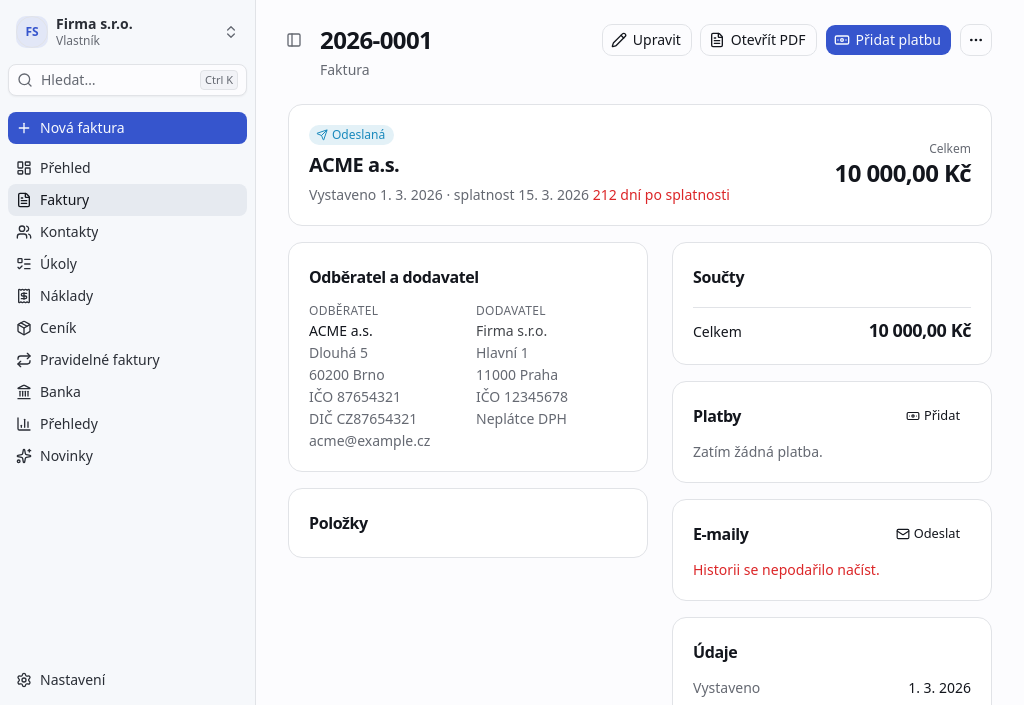
Test case: zálohy — platba › platba musí mít znaménko zbývající částky
expect the heading "2026-0001" is shown: met, box [320, 23, 432, 56]
Click the button "Přidat platbu". click: click(888, 40)
box: [825, 24, 952, 56]
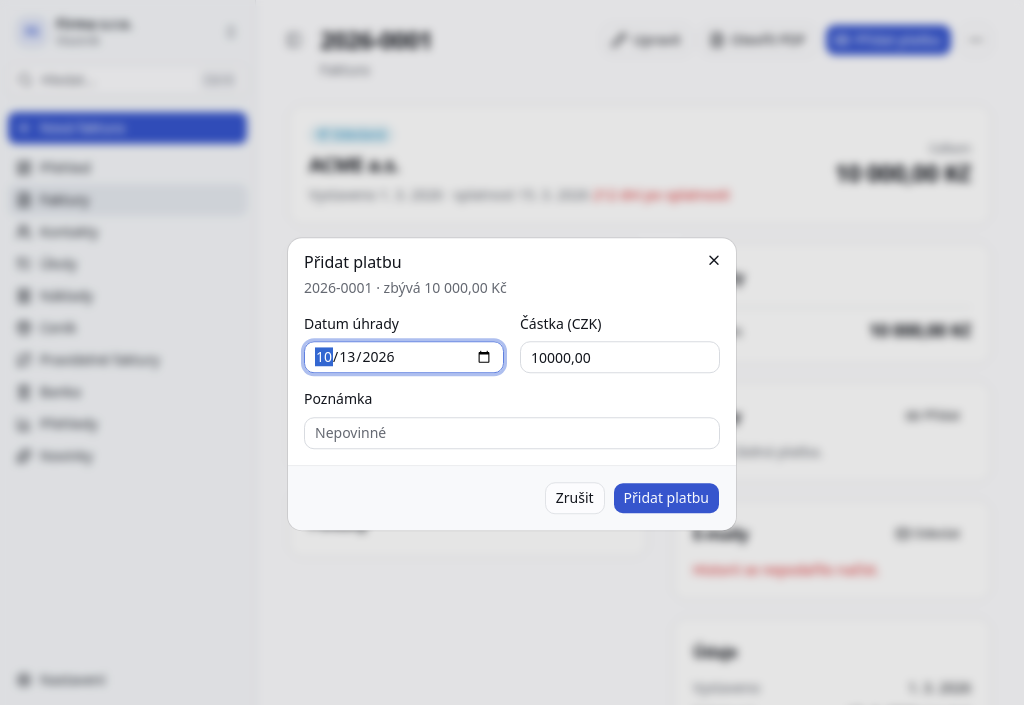
Replace the text in the field labelled "Částka (CZK)" with "-100". click: (620, 358)
box: [520, 342, 720, 374]
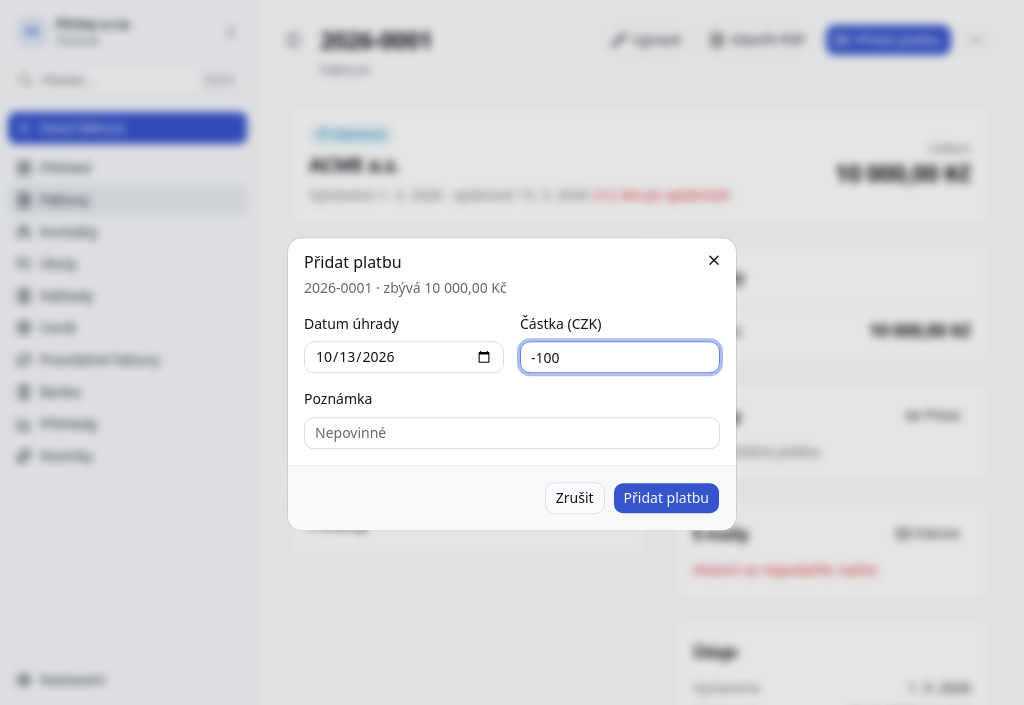
Click the button "Přidat platbu". click: click(666, 498)
box: [613, 482, 720, 514]
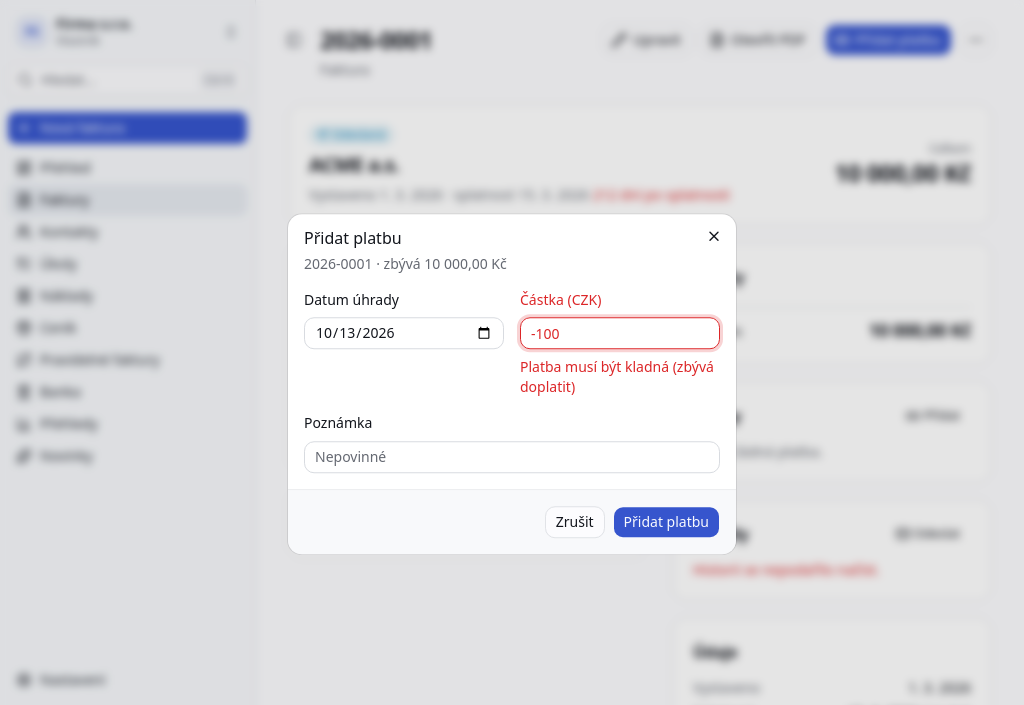
expect the text "Platba musí být kladná (zbývá doplatit)" is shown: met, box [520, 358, 720, 398]
